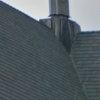Chimney: (44, 1, 76, 35)
